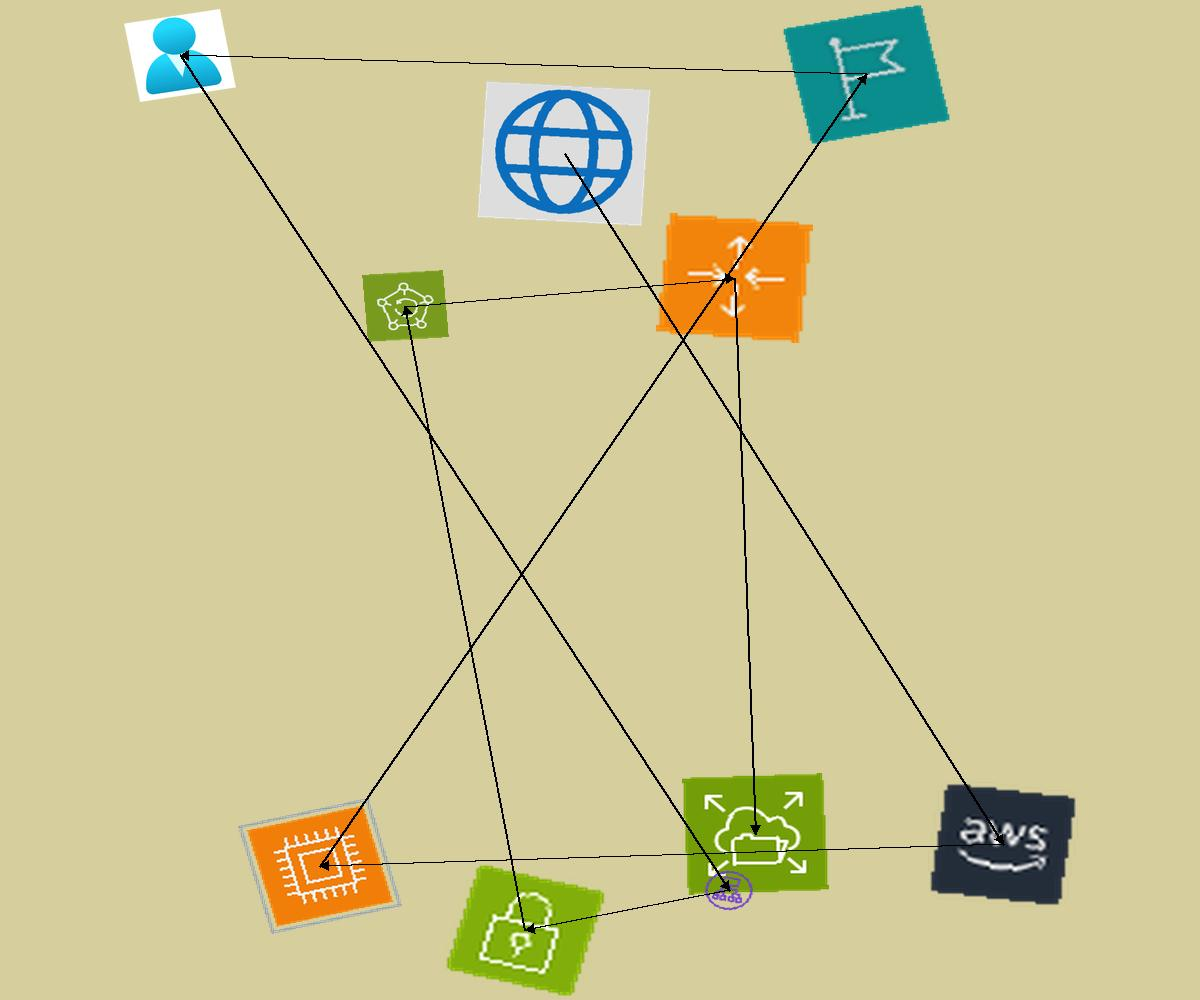AWS-Backup: (362, 270, 449, 342)
AWS-Category_Compute: (238, 798, 402, 934)
AWS-Cloud-logo: (928, 782, 1078, 907)
AWS-EFS: (682, 773, 829, 895)
AWS-Public-subnet: (444, 863, 607, 998)
AWS-Region: (782, 4, 951, 145)
AWS-Res_Elastic-Load-Balancing_Application-Load-Balancer: (698, 865, 760, 916)
AWS-Scaling-group: (656, 213, 813, 343)
Azure_http: (477, 81, 651, 226)
Azure_users: (124, 9, 236, 102)
